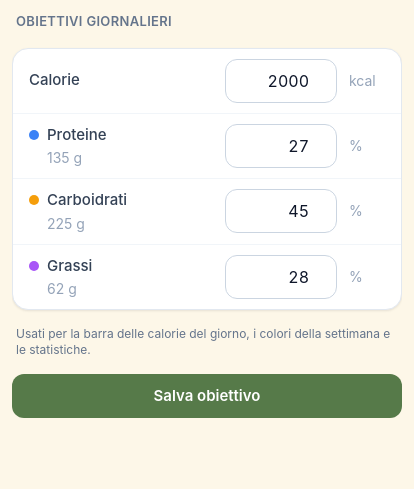
Scenario: GoalForm › shows a success confirmation after a successful save
This screenshot has width=414, height=489.
Click the button "Salva obiettivo": point(207, 396) top-left (12, 374), bottom-right (402, 418)
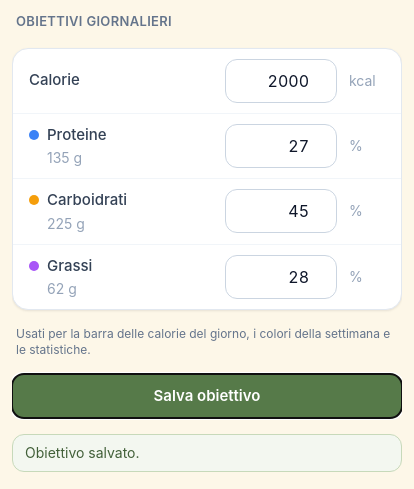
Expected: the message shows "salvato", top-left (25, 444), bottom-right (140, 461)
